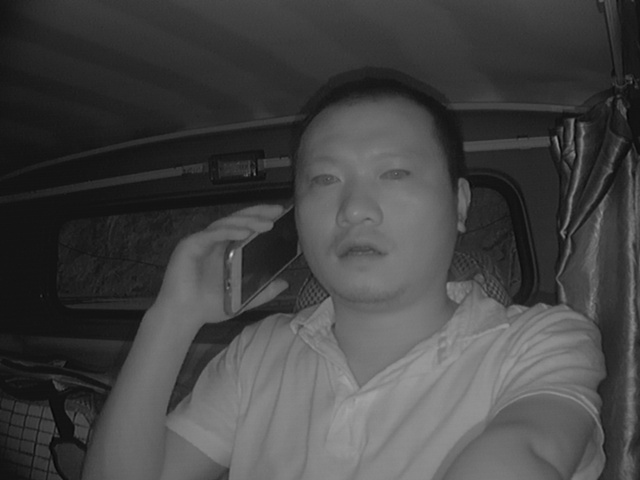hand: (167, 202, 290, 325)
